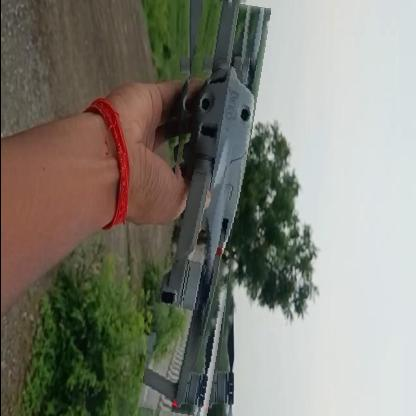plane: (153, 0, 255, 415)
